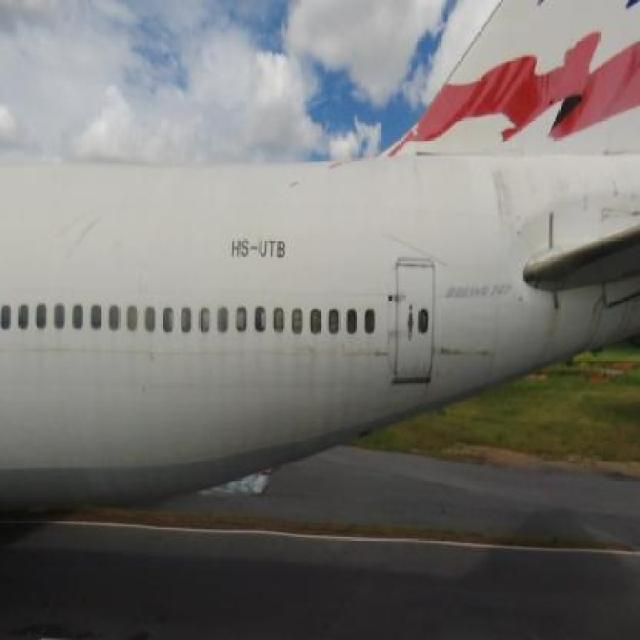Scartch: (45, 200, 121, 268), (482, 168, 522, 234), (586, 187, 640, 233), (434, 336, 506, 369), (355, 341, 399, 374)
